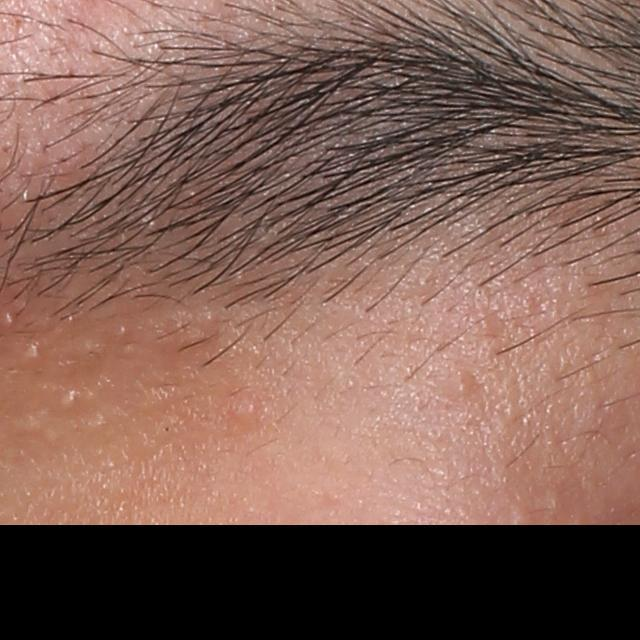comedo: (445, 372, 479, 400), (60, 390, 83, 411), (22, 344, 44, 364), (0, 309, 19, 330)
